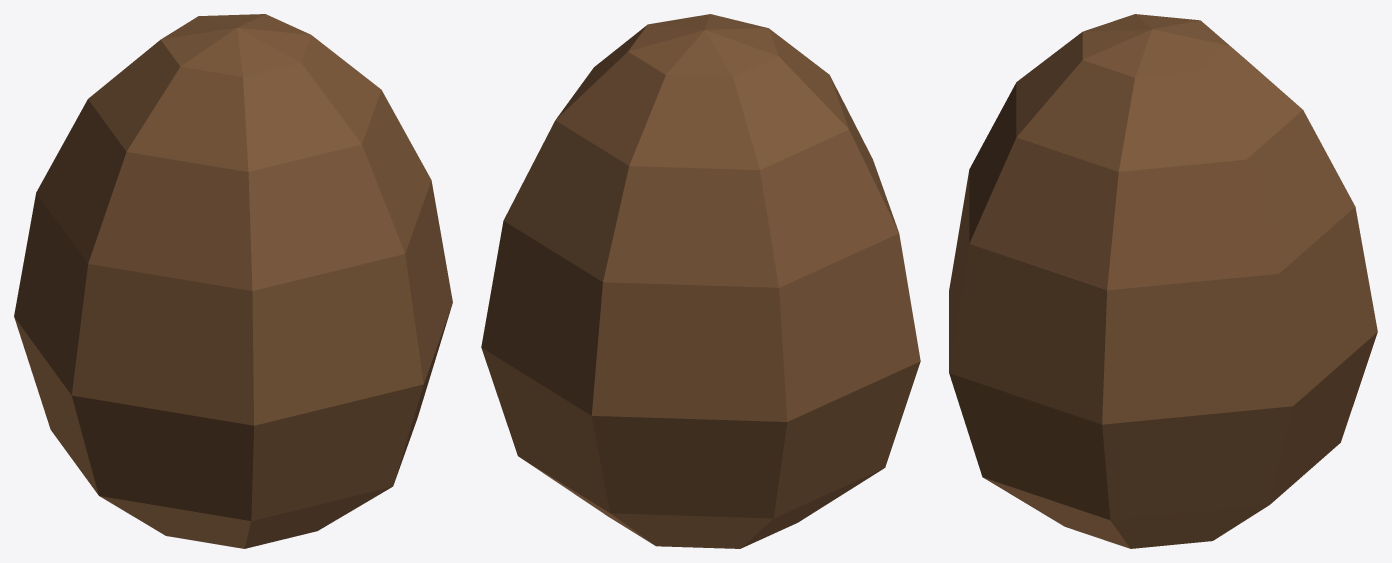
File: Cocount.fbx
The picture shows the model from 3 angles, left to right: view 1: azimuth 30°, elevation 25°; view 2: azimuth 150°, elevation 25°; view 3: azimuth 270°, elevation 25°; orthographic projection.
Visible parts, largest first — view 1: Sphere; view 2: Sphere; view 3: Sphere.
Part boxes in pixels (bbox=[...]): Sphere: bbox=[14, 14, 452, 548]; Sphere: bbox=[481, 14, 920, 548]; Sphere: bbox=[949, 14, 1377, 548].
Bounding box in the file's own units: 20.54 × 25.4 × 20.03.
